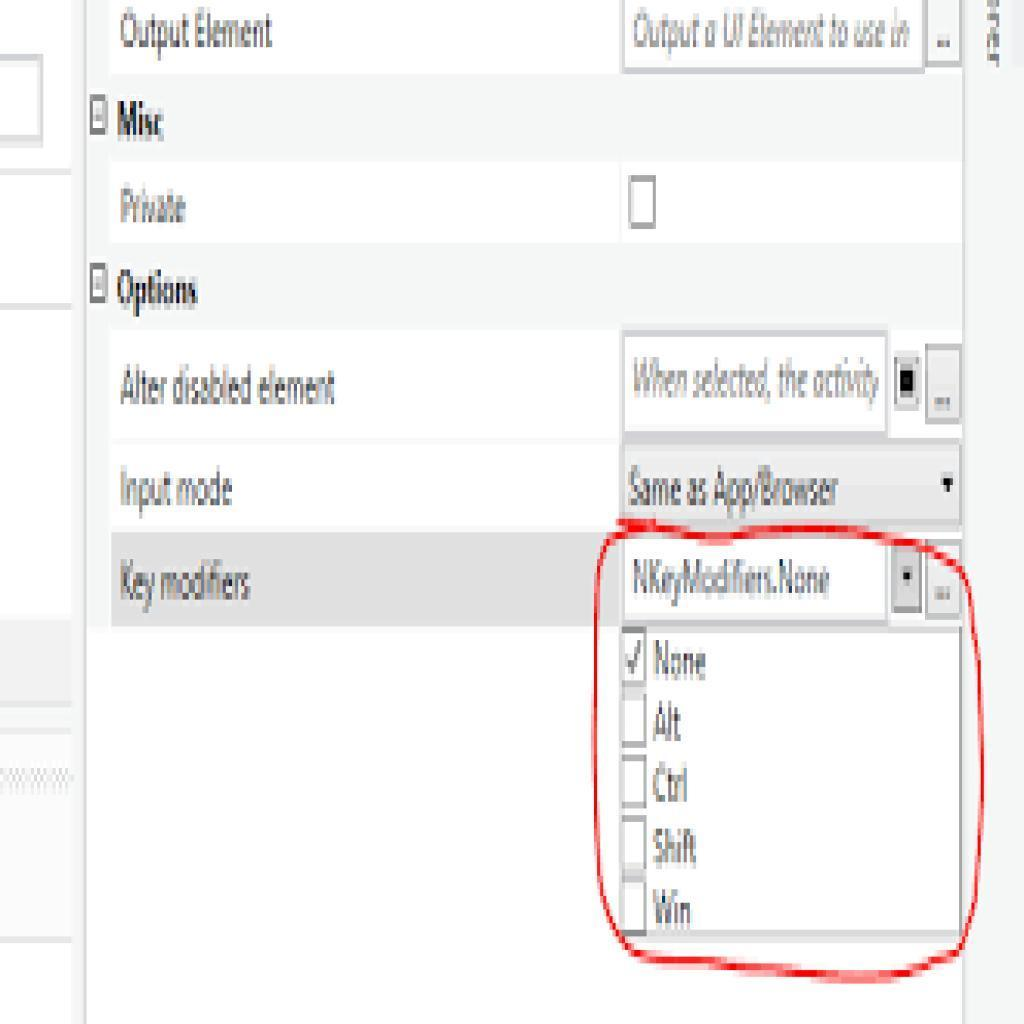checkbox: (897, 352, 923, 412), (622, 630, 648, 687), (630, 176, 657, 229), (622, 693, 648, 748), (623, 757, 649, 808), (624, 881, 649, 933), (623, 818, 645, 868)
dropdown: (625, 449, 961, 523)
input: (621, 332, 886, 435), (622, 4, 924, 71)
label: (655, 640, 715, 685), (652, 826, 702, 871), (652, 762, 695, 808), (653, 887, 695, 930), (655, 702, 687, 745)
